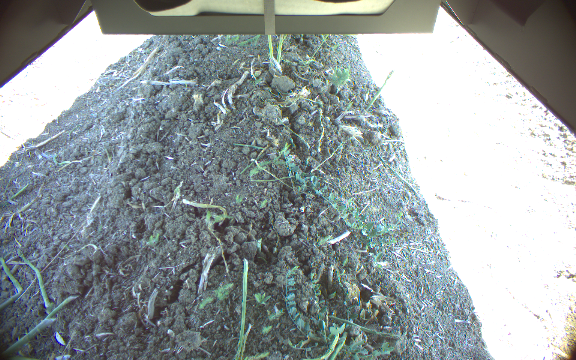aspa: (364, 70, 395, 113), (266, 35, 276, 58), (277, 34, 283, 63)
